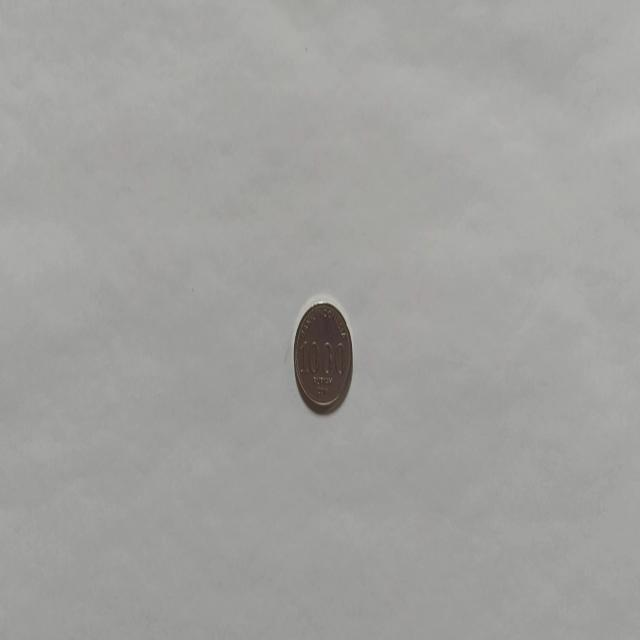seribu rupiah koin: (292, 297, 354, 415)
